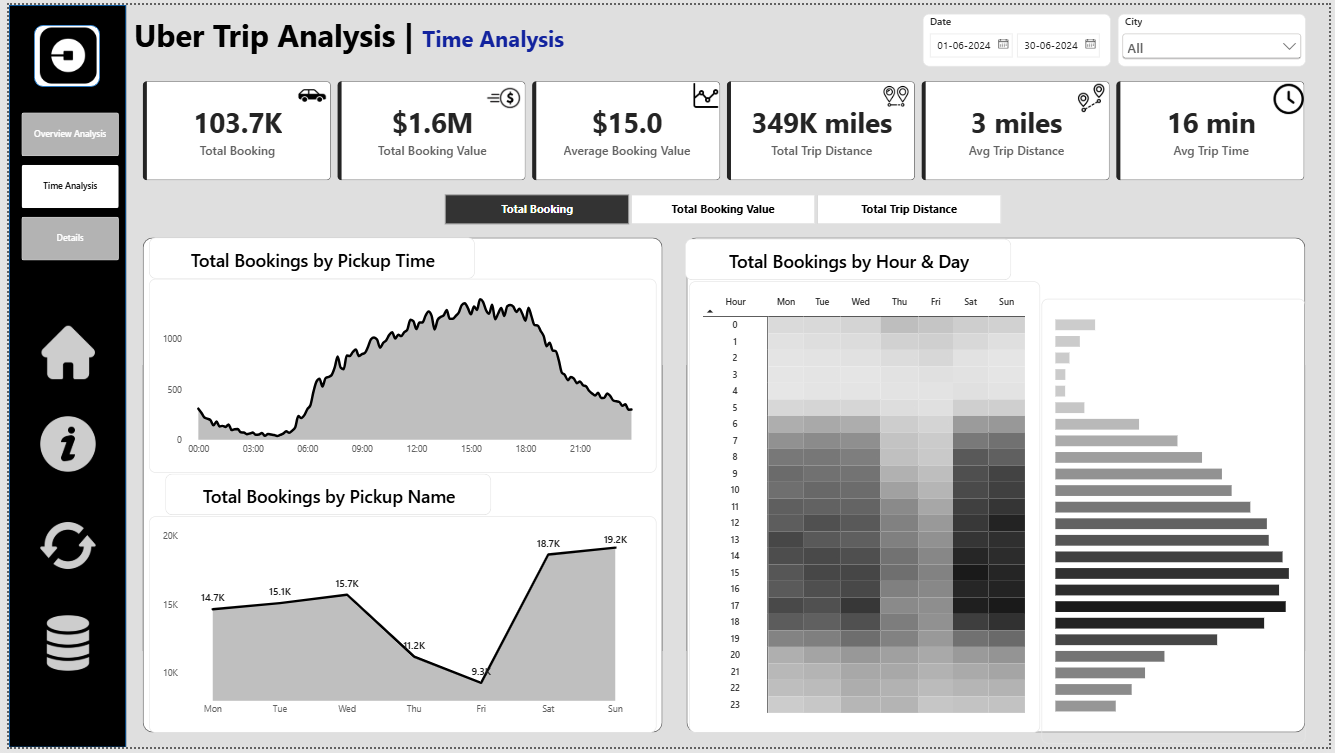

The dashboard page shown, as its layout file describes it:
{"tool":"powerbi","page":{"name":"Time Analysis","canvas":[1600,900],"ordinal":1},"visuals":[{"type":"shape","box":[0,0,142,900],"z":0},{"type":"textbox","box":[151.4,10,580,54.3],"z":1000},{"type":"cardVisual","fields":{"Data":["Measure.Total Booking","Measure.Total Booking Value","Measure.Average Booking Amount","Measure.Total Trip Distance","Measure.Avg Trip Distance","Measure.Avg Trip Time"]},"box":[162,93,1410,120],"z":2000},{"type":"image","box":[579.1,95.5,43.6,34.5],"z":3000},{"type":"image","box":[1057.3,95.5,35.5,30],"z":4000},{"type":"image","box":[1291.1,95.6,43.6,34.5],"z":5000},{"type":"image","box":[1530,95.6,42.2,36.7],"z":6000},{"type":"image","box":[823.3,92.2,43.6,34.5],"z":7000},{"type":"shape","box":[162,282,630,600],"z":8000},{"type":"image","box":[345.6,92.2,43.6,34.5],"z":9000},{"type":"slicer","fields":{"Values":["Dynamic Measure.Dynamic Measure"]},"box":[507.8,227.8,714,40],"z":10000},{"type":"slicer","fields":{"Values":["Location Table.City"]},"box":[1344,10,228,64],"z":11000},{"type":"slicer","fields":{"Values":["Calendar Table.Date"]},"box":[1107,10,228,64],"z":12000},{"type":"areaChart","fields":{"Category":["Trip Details.Pickup Hour (HH MM SS) (bins)"],"Y":["Measure.Total Booking"]},"box":[170,332.5,615,235],"z":13000},{"type":"cardVisual","fields":{"Data":["Measure.Title For by Pickup Time"]},"box":[170,282.5,395,50],"z":14000},{"type":"areaChart","fields":{"Category":["Calendar Table.Day Name"],"Y":["Measure.Total Booking"]},"box":[170,620,615,262.5],"z":15000},{"type":"cardVisual","fields":{"Data":["Measure.Title For by Day Name"]},"box":[190,567.5,395,50],"z":16000},{"type":"shape","box":[820.9,282.1,750,600],"z":17000},{"type":"pivotTable","fields":{"Columns":["Calendar Table.Day Name"],"Rows":["Trip Details.Pickup Hour"],"Values":["Measure.Total Booking"]},"box":[823.7,335.6,425.4,547.5],"z":18000},{"type":"barChart","fields":{"Category":["Trip Details.Pickup Hour"],"Y":["Measure.Total Booking"]},"box":[1250.8,355.9,320.3,539],"z":19000},{"type":"cardVisual","fields":{"Data":["Measure.Title For by Hour & Day Time"]},"box":[820.3,283.1,395,50],"z":20000},{"type":"group","id":"g1","title":"Group 1","box":[30.3,24.2,80.9,75],"z":21000},{"type":"pageNavigator","box":[15,130,118.3,180],"z":22000},{"type":"image","box":[40,386.2,65,70],"z":23000},{"type":"image","box":[37.5,498.8,67.5,67.5],"z":24000},{"type":"image","box":[37.5,615,67.5,80],"z":25000},{"type":"image","box":[37.5,733.8,67.5,80],"z":26000},{"type":"shape","box":[30.3,24.2,80,75],"z":33000,"group":"g1"},{"type":"image","box":[31.2,27.6,80,68.1],"z":34000,"group":"g1"}]}

Visuals, with their boxes in screenshot pixels (x1, y1, x2, y2), scaled from the page's 1600x900 canvas onto the 1335x753 screenshot:
shape: select_region(0, 0, 118, 752)
textbox: select_region(126, 8, 610, 54)
cardVisual - Measure.Total Booking x Measure.Total Booking Value: select_region(135, 78, 1312, 178)
image: select_region(483, 80, 520, 109)
image: select_region(882, 80, 912, 105)
image: select_region(1077, 80, 1114, 109)
image: select_region(1277, 80, 1312, 111)
image: select_region(687, 77, 723, 106)
shape: select_region(135, 236, 661, 738)
image: select_region(288, 77, 325, 106)
slicer - Dynamic Measure.Dynamic Measure: select_region(424, 191, 1019, 224)
slicer - Location Table.City: select_region(1121, 8, 1312, 62)
slicer - Calendar Table.Date: select_region(924, 8, 1114, 62)
areaChart - Trip Details.Pickup Hour (HH MM SS) (bins) x Measure.Total Booking: select_region(142, 278, 655, 475)
cardVisual - Measure.Title For by Pickup Time: select_region(142, 236, 471, 278)
areaChart - Calendar Table.Day Name x Measure.Total Booking: select_region(142, 519, 655, 738)
cardVisual - Measure.Title For by Day Name: select_region(159, 475, 488, 517)
shape: select_region(685, 236, 1311, 738)
pivotTable - Calendar Table.Day Name x Trip Details.Pickup Hour: select_region(687, 281, 1042, 739)
barChart - Trip Details.Pickup Hour x Measure.Total Booking: select_region(1044, 298, 1311, 749)
cardVisual - Measure.Title For by Hour & Day Time: select_region(684, 237, 1014, 279)
"Group 1" group: select_region(25, 20, 93, 83)
pageNavigator: select_region(13, 109, 111, 259)
image: select_region(33, 323, 88, 382)
image: select_region(31, 417, 88, 474)
image: select_region(31, 515, 88, 581)
image: select_region(31, 614, 88, 681)
shape: select_region(25, 20, 92, 83)
image: select_region(26, 23, 93, 80)
